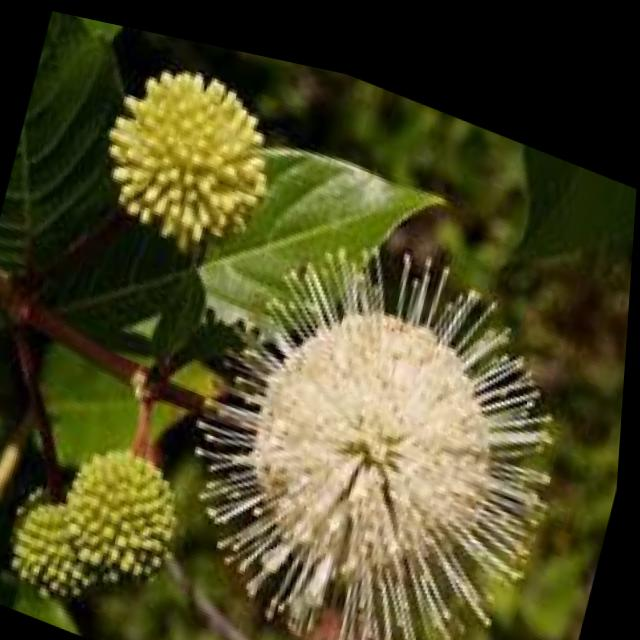Flower: (182, 178, 597, 640)
